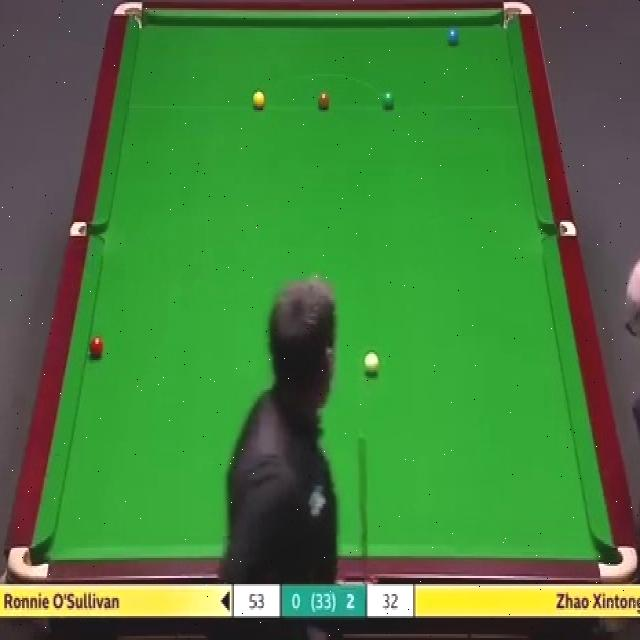blue-ball: (446, 27, 459, 44)
brown-ball: (316, 88, 331, 110)
green-ball: (380, 90, 395, 110)
red-ball: (88, 336, 105, 358)
white-ball: (363, 348, 381, 376)
yellow-ball: (252, 88, 265, 109)
